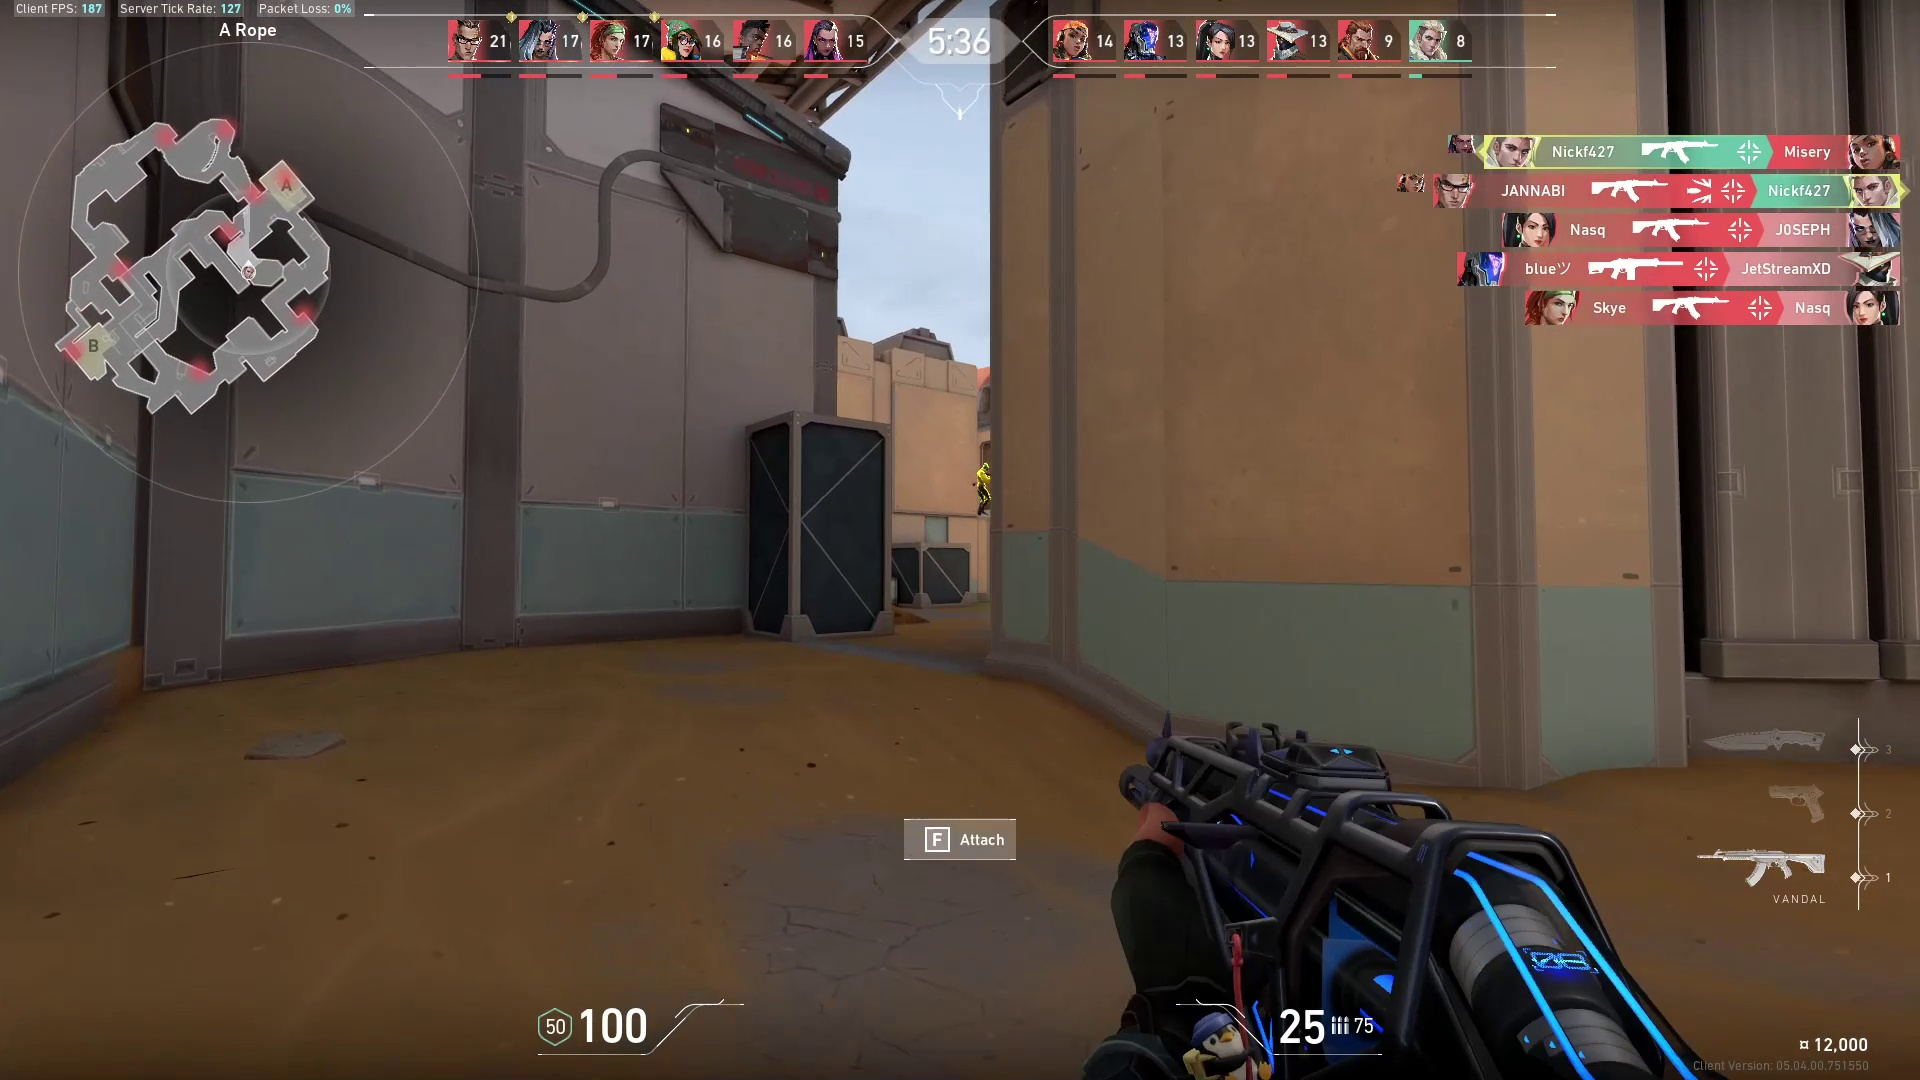enemy_body: (977, 469, 989, 517)
enemy_head: (981, 462, 990, 472)
